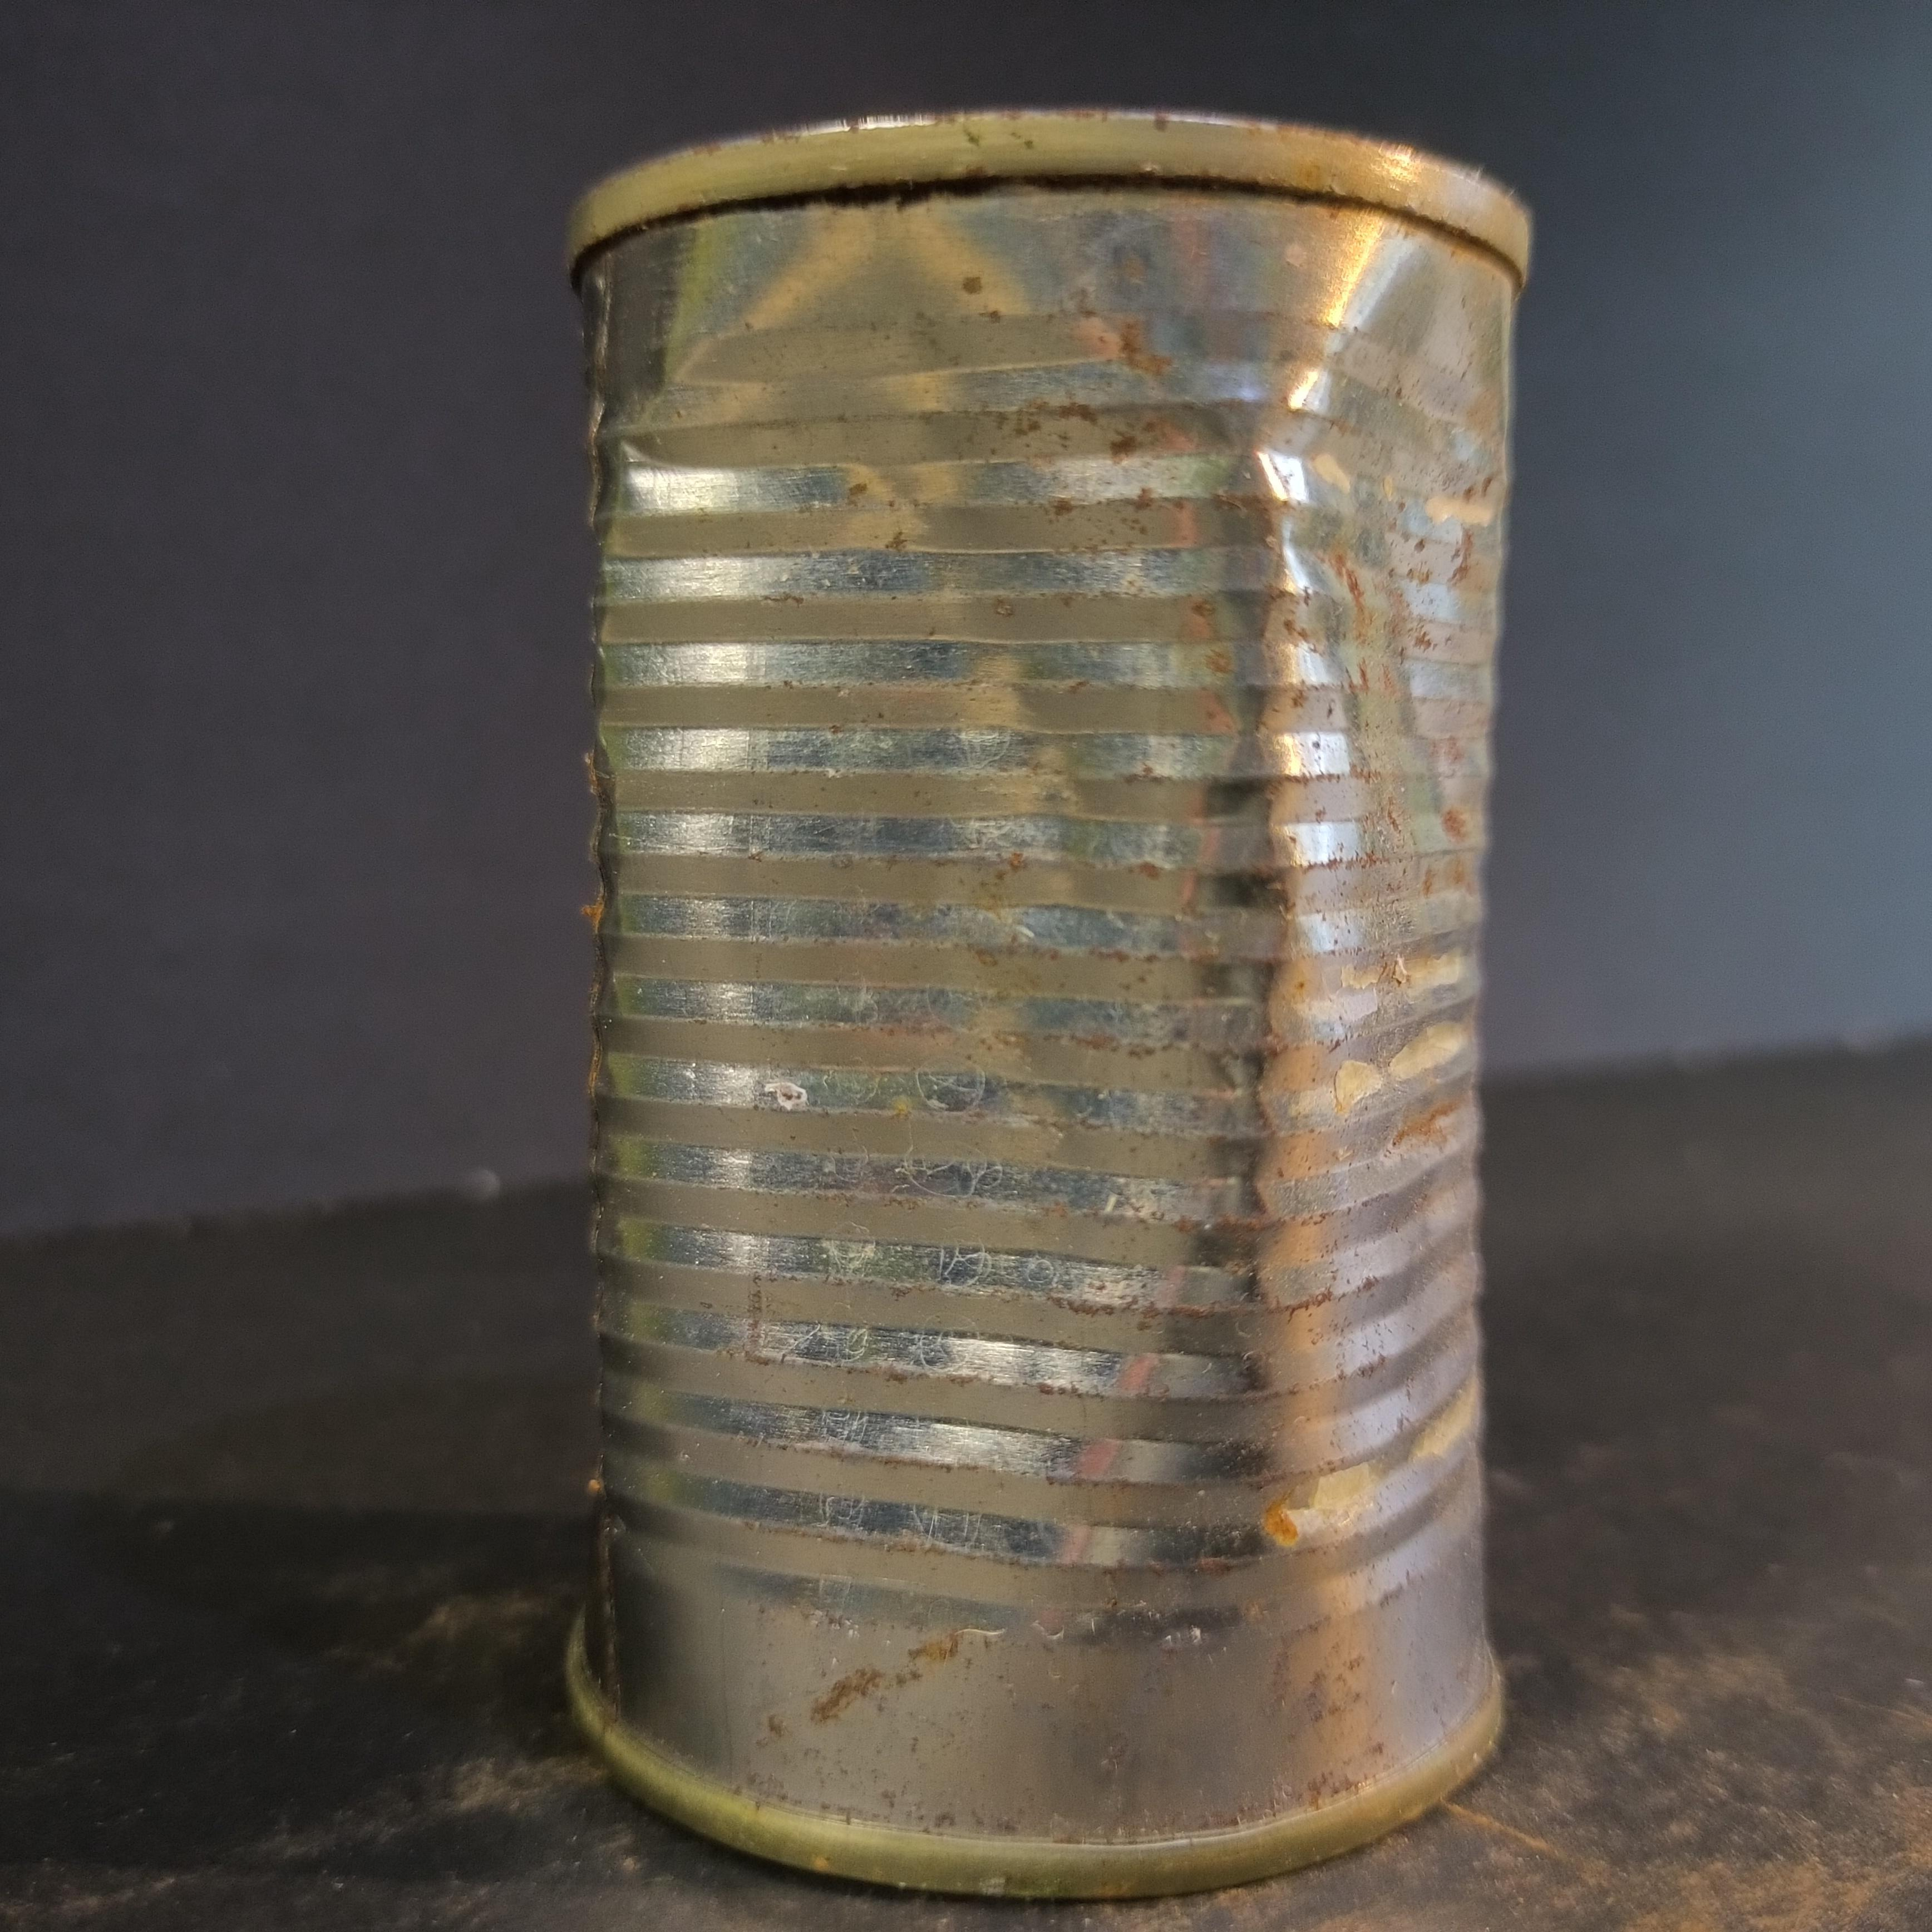Dented: (540, 73, 1564, 1923)
